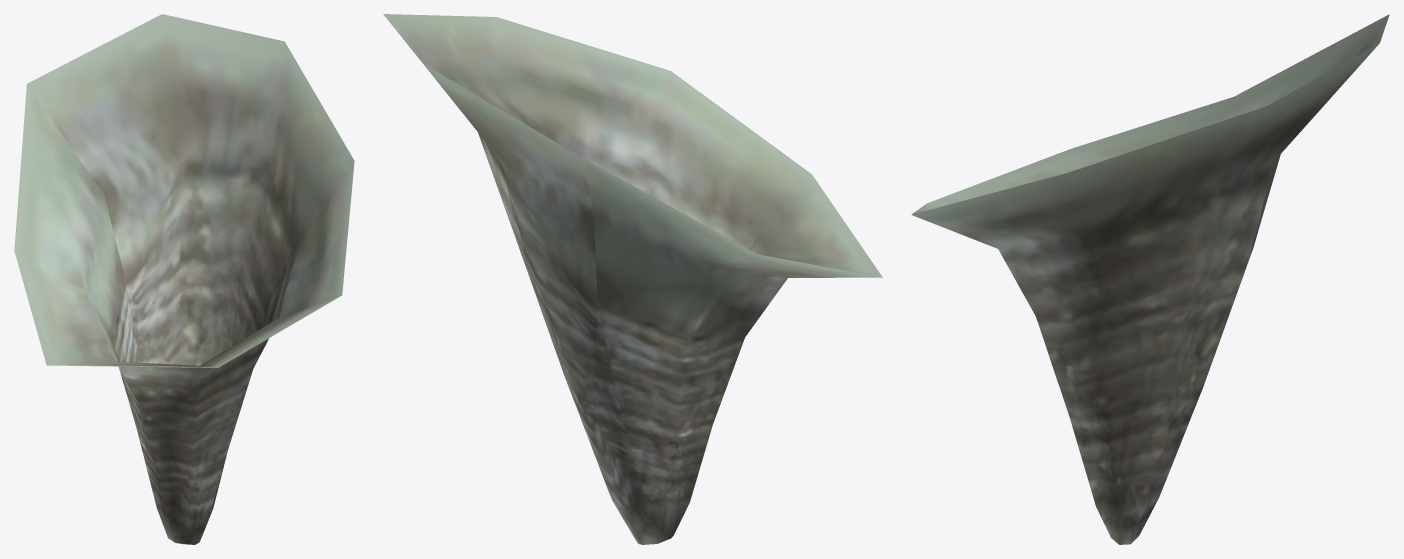
File: TROLLHOLE02_PS-SECRETSTALAG50.fbx
3 renders of one model, left to right at view 1: azimuth 30°, elevation 25°; view 2: azimuth 150°, elevation 25°; view 3: azimuth 270°, elevation 25°, orthographic. The views are drawn at different scales.
Parts seen in each view (by area): view 1: TROLLHOLE02_PS-SECRETSTALAG50; view 2: TROLLHOLE02_PS-SECRETSTALAG50; view 3: TROLLHOLE02_PS-SECRETSTALAG50.
Part boxes in pixels (x1,y1,x2,y2): TROLLHOLE02_PS-SECRETSTALAG50: (14, 14, 354, 544); TROLLHOLE02_PS-SECRETSTALAG50: (383, 14, 882, 544); TROLLHOLE02_PS-SECRETSTALAG50: (911, 14, 1389, 544).
Bounding box in the file's own units: 22103 × 29091 × 23206.
Materials: 1 (1 with a texture image).
